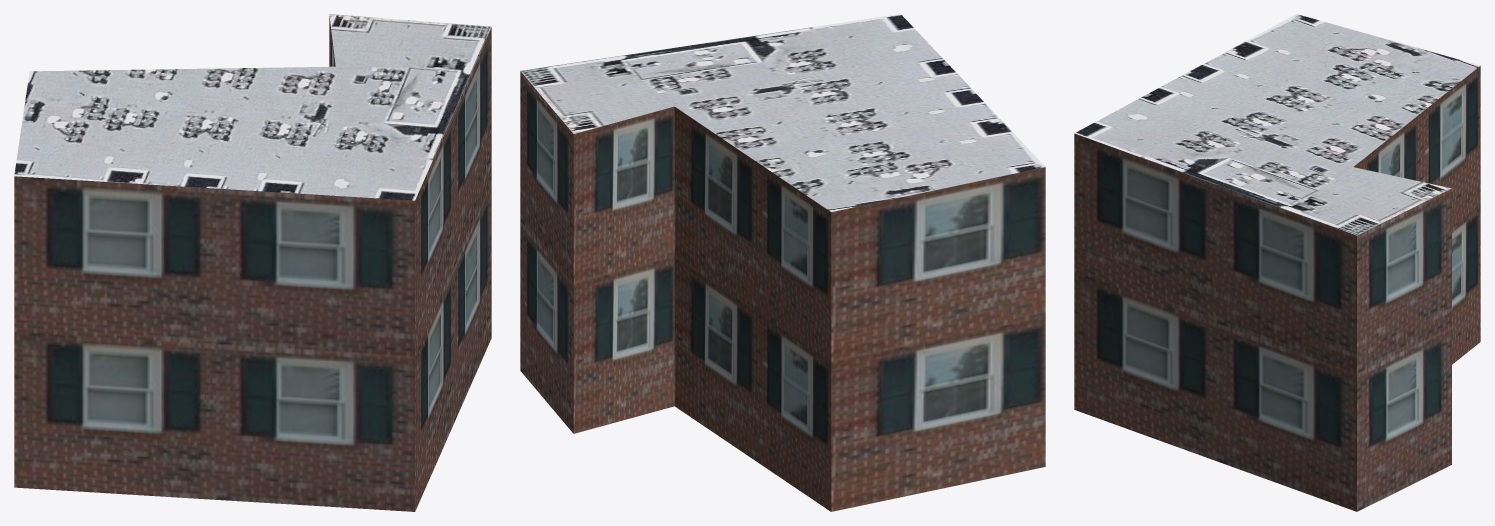
Rendered from ResTex__3312.fbx.
3 renders of one model, left to right at view 1: azimuth 30°, elevation 25°; view 2: azimuth 150°, elevation 25°; view 3: azimuth 270°, elevation 25°, orthographic. The views are drawn at different scales.
Parts seen in each view (by area): view 1: CityEngineMaterial_14_m, CityEngineMaterial_m; view 2: CityEngineMaterial_14_m, CityEngineMaterial_m; view 3: CityEngineMaterial_14_m, CityEngineMaterial_m.
Part boxes in pixels (x1,y1,x2,y2): CityEngineMaterial_14_m: (14,16,491,511); CityEngineMaterial_m: (14,14,491,200); CityEngineMaterial_14_m: (520,71,1045,511); CityEngineMaterial_m: (520,14,1045,211); CityEngineMaterial_14_m: (1074,66,1480,511); CityEngineMaterial_m: (1074,14,1480,235).
Size of the model in its own units: 10.32 by 6 by 8.
Materials: 2 (2 with a texture image).
